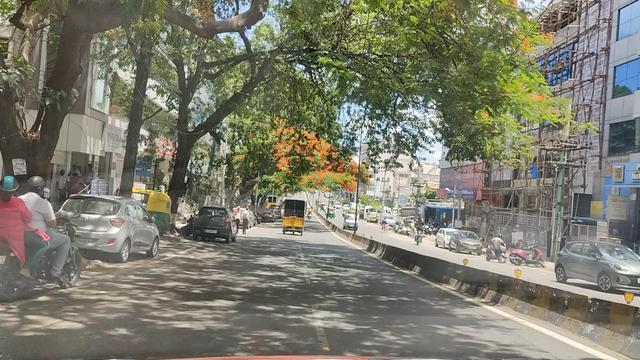HMV: (277, 200, 311, 237)
LMV: (0, 174, 73, 321), (82, 193, 154, 261), (194, 201, 225, 248)
